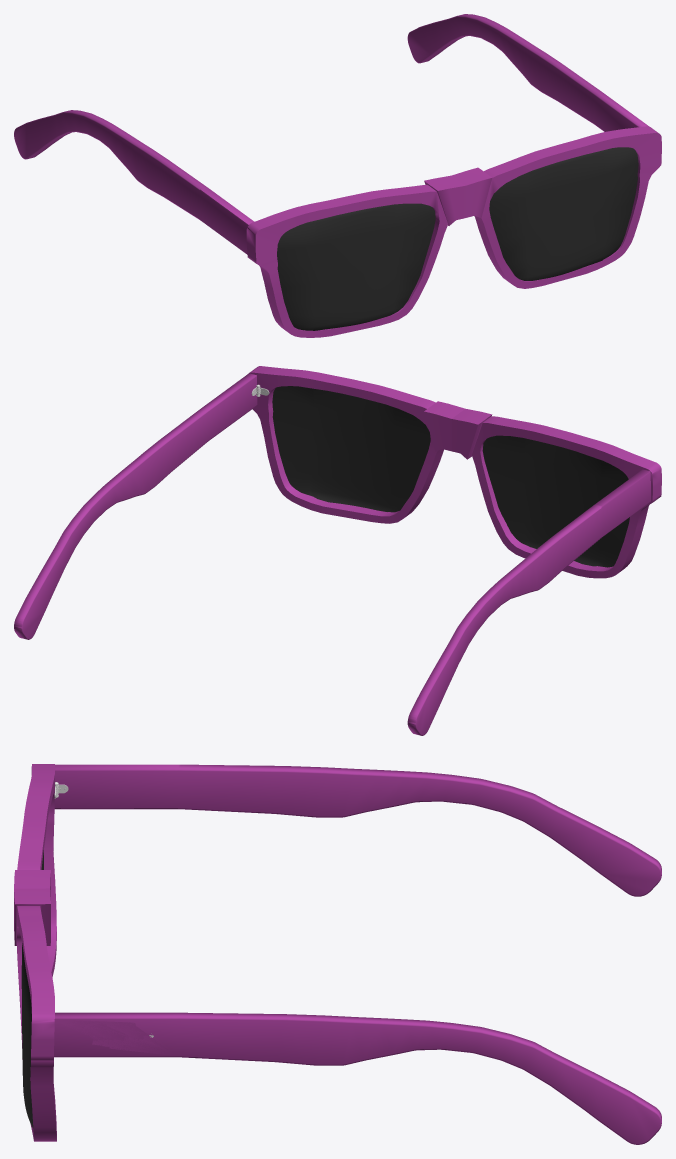
File: sun glasses.fbx
3 views of the same model, one above another, from view 1: azimuth 30°, elevation 25°; view 2: azimuth 150°, elevation 25°; view 3: azimuth 270°, elevation 25° (orthographic). The views are drawn at different scales.
Visible parts, largest first — view 1: Cube; view 2: Cube; view 3: Cube.
Boxes of the visible parts, <box> form: Cube: <box>14,14,661,337</box>; Cube: <box>14,366,661,735</box>; Cube: <box>14,764,661,1144</box>.
Bounding box in the file's own units: 372 × 114 × 397.
